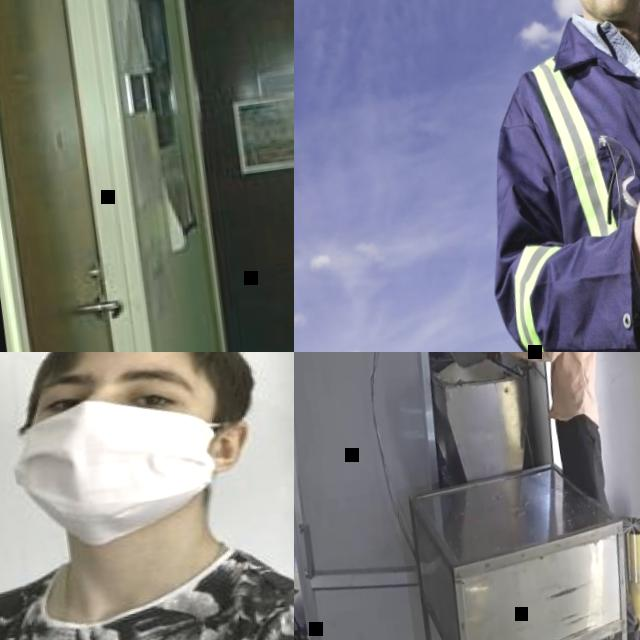Mask: (7, 382, 236, 555)
NO-Hardhat: (35, 352, 235, 370)
NO-Mask: (569, 0, 640, 23)
NO-Safety Vest: (0, 548, 294, 640), (527, 352, 612, 426)
Person: (0, 352, 294, 640), (423, 0, 640, 352), (455, 352, 640, 640)
Safety Vest: (483, 26, 640, 352)
